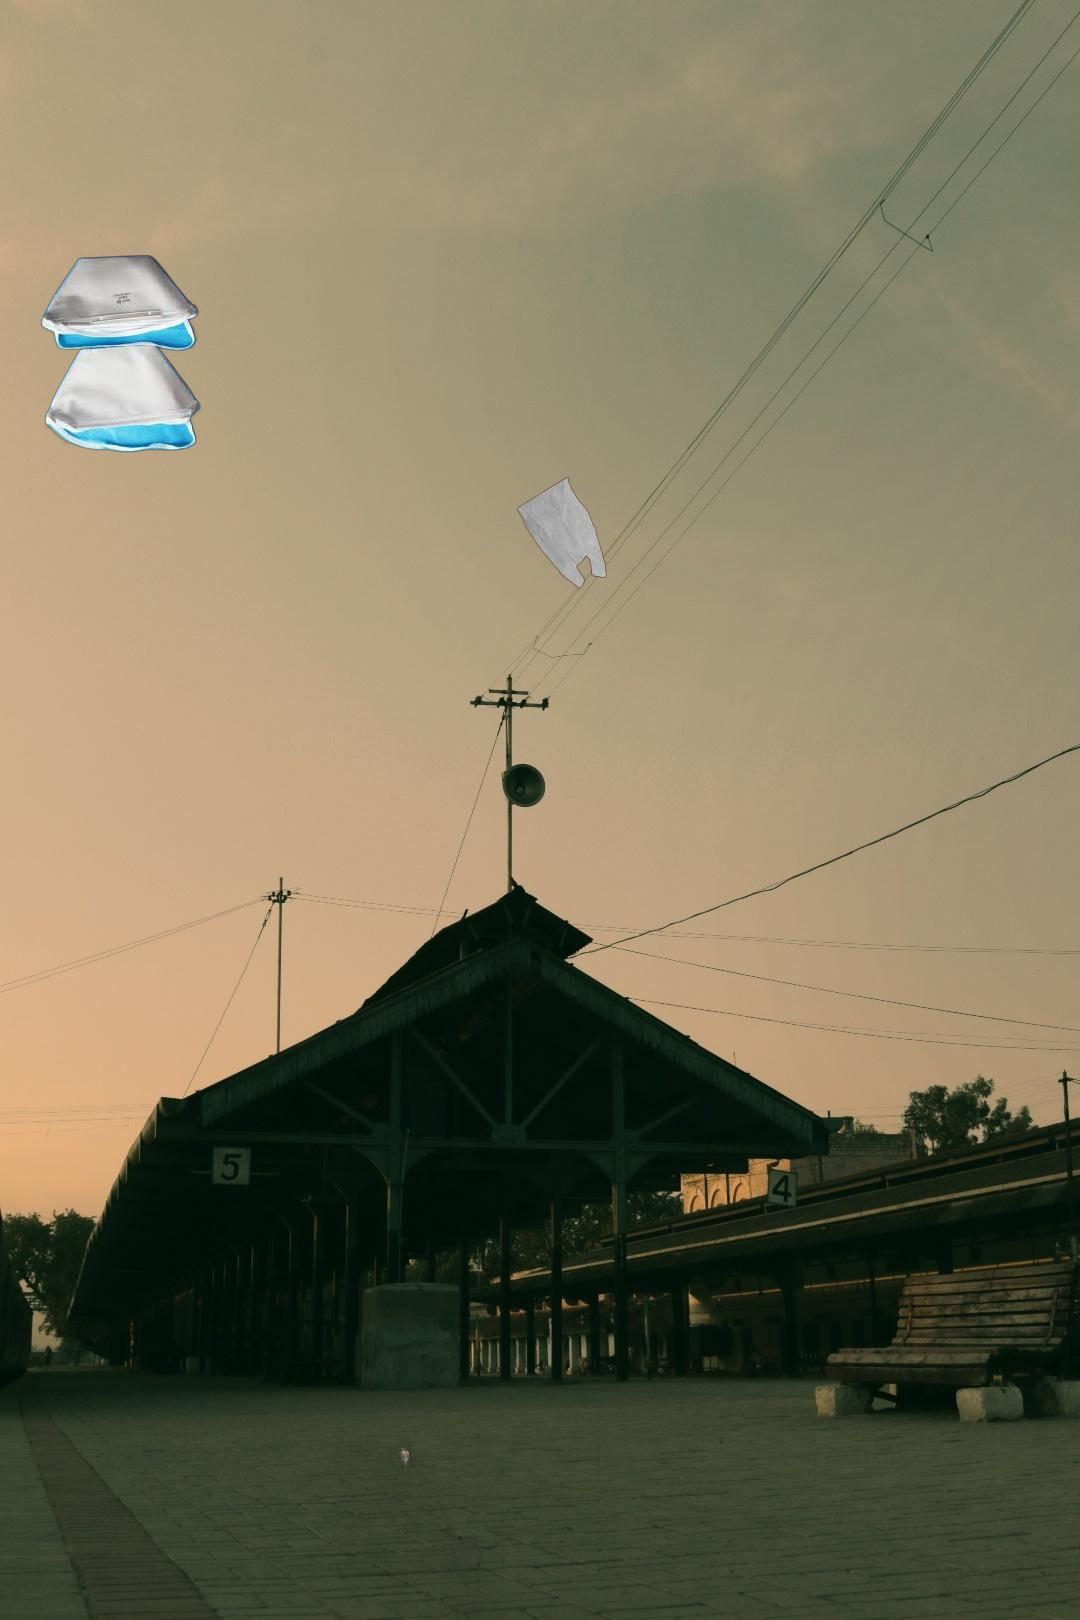plastic-bag: (513, 475, 609, 591)
trash: (39, 253, 202, 454)
trashbox-cardboard: (334, 1436, 507, 1620)
